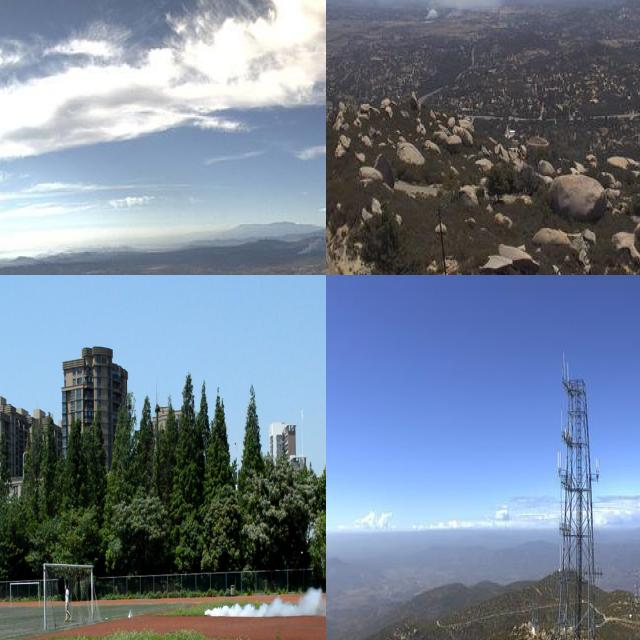smoke: (202, 534, 326, 617), (326, 0, 498, 22)
